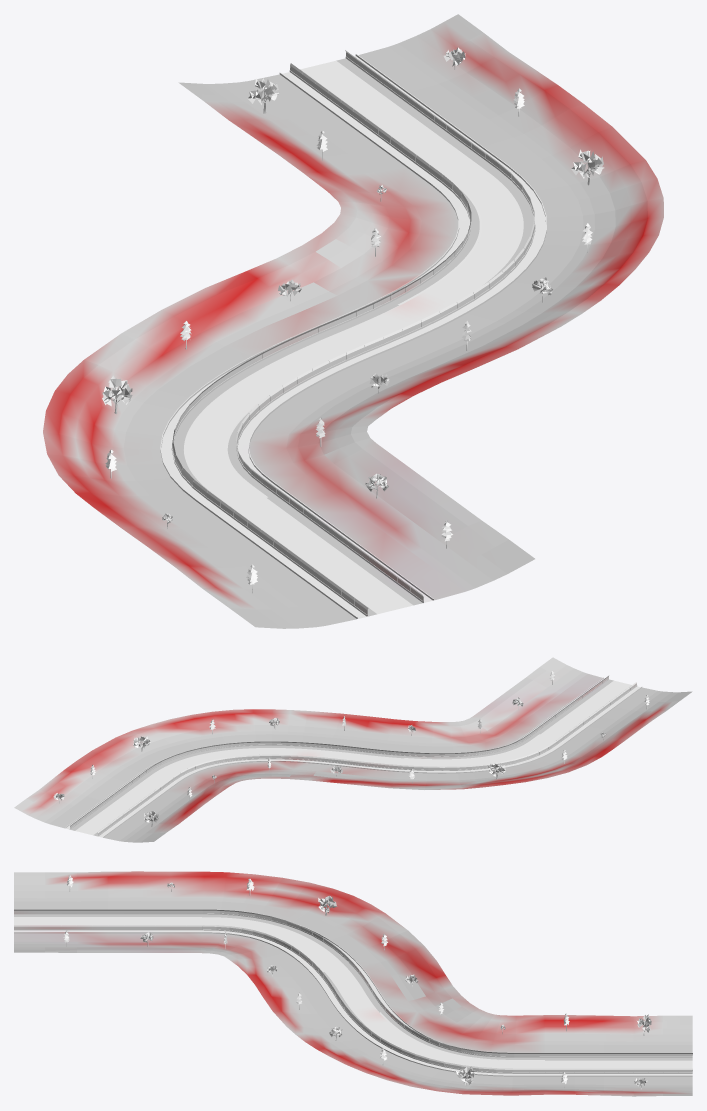
3 renders of one model, top to bottom at view 1: azimuth 30°, elevation 25°; view 2: azimuth 150°, elevation 25°; view 3: azimuth 270°, elevation 25°, orthographic. The views are drawn at different scales.
Parts seen in each view (by area): view 1: Grass, Road, Track, Wirefence, Trees; view 2: Grass, Road, Track, Wirefence, Trees; view 3: Grass, Road, Track, Wirefence, Trees.
Part boxes in pixels (x1,y1,x2,y2): Grass: (43,14,663,628); Road: (184,61,522,613); Track: (160,50,546,618); Wirefence: (172,50,534,614); Trees: (102,47,604,593); Grass: (14,657,692,842); Road: (76,680,630,835); Track: (65,677,641,837); Wirefence: (70,676,636,835); Trees: (53,671,649,827); Grass: (14,871,692,1096); Road: (14,917,692,1068); Track: (14,910,692,1076); Wirefence: (14,909,692,1072); Trees: (63,875,651,1089).
Size of what is drawn, in the model's own units: 39000 by 1883 by 50019.
